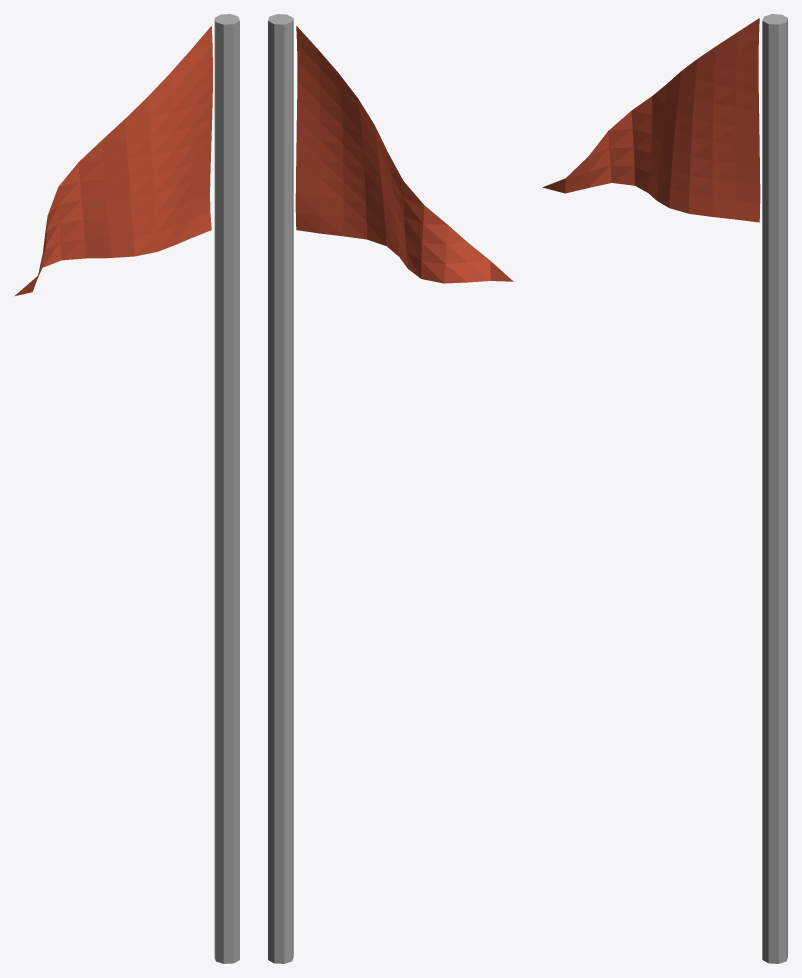
Rendered from flag.glb.
The picture shows the model from 3 angles, left to right: view 1: azimuth 30°, elevation 25°; view 2: azimuth 150°, elevation 25°; view 3: azimuth 330°, elevation 25°; orthographic projection.
Parts seen in each view (by area): view 1: Flag; view 2: Flag; view 3: Flag.
Boxes of the visible parts, left/top/right/bottom form: Flag: left=14, top=14, right=239, bottom=963; Flag: left=268, top=14, right=513, bottom=963; Flag: left=542, top=14, right=787, bottom=963.
Size of the model in its own units: 0.5681 by 2.17 by 0.0986.
Materials: 1 (1 with a texture image).
